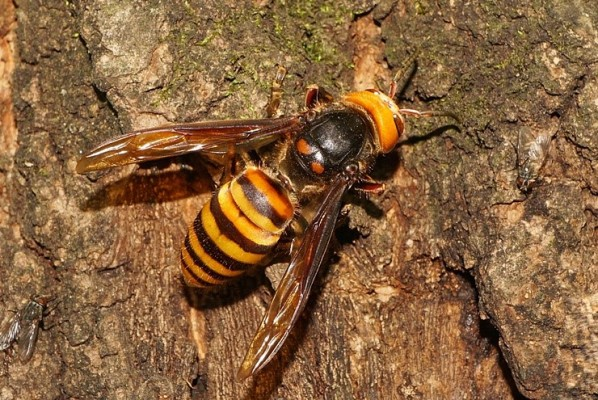asian_giant_hornet: (175, 64, 423, 296)
